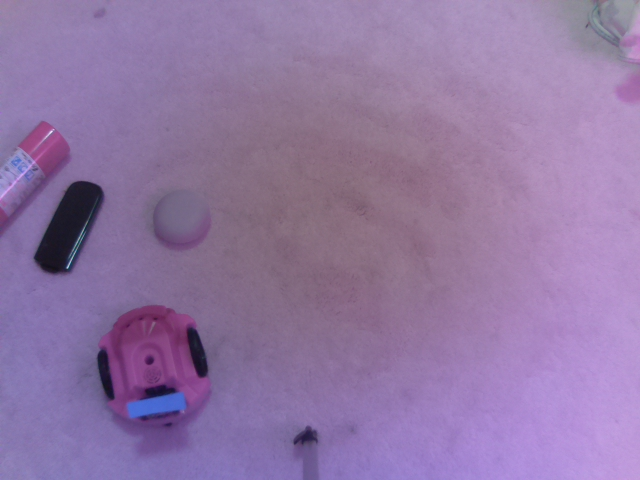board: (121, 393, 205, 427)
chassis: (94, 299, 214, 433)
